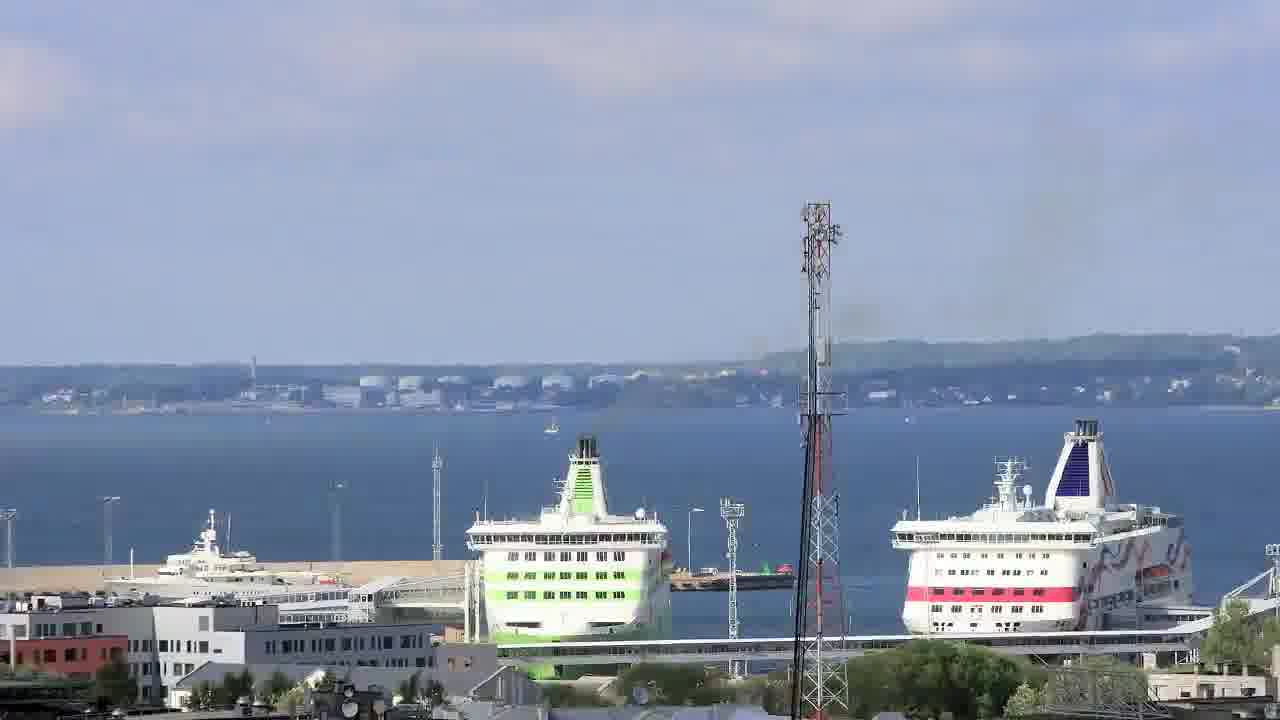type-2: (529, 403, 571, 446)
type-3: (868, 415, 1225, 638), (436, 434, 694, 670), (84, 511, 353, 609)
